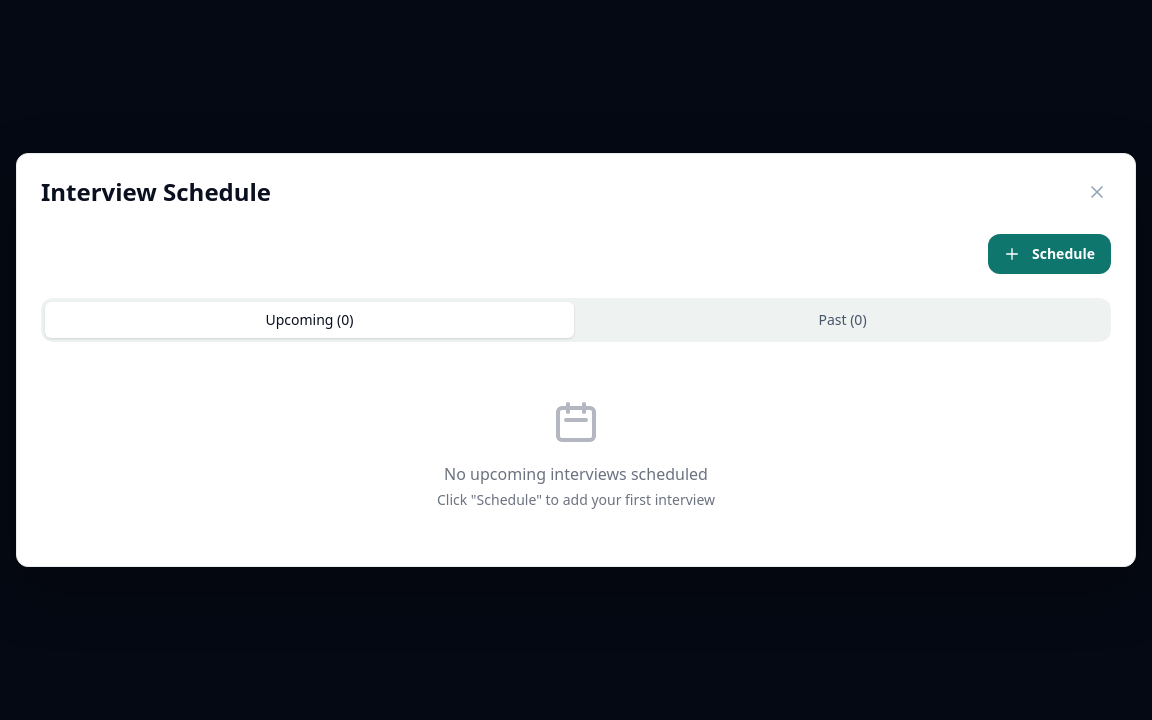
Test: InterviewScheduler › past interviews tab › shows empty state when no past interviews
What coordinates should you click on to do the following:
click the button "Past (0)"
I would click on:
 (842, 320)
Its box is 578,302 -> 1107,338.
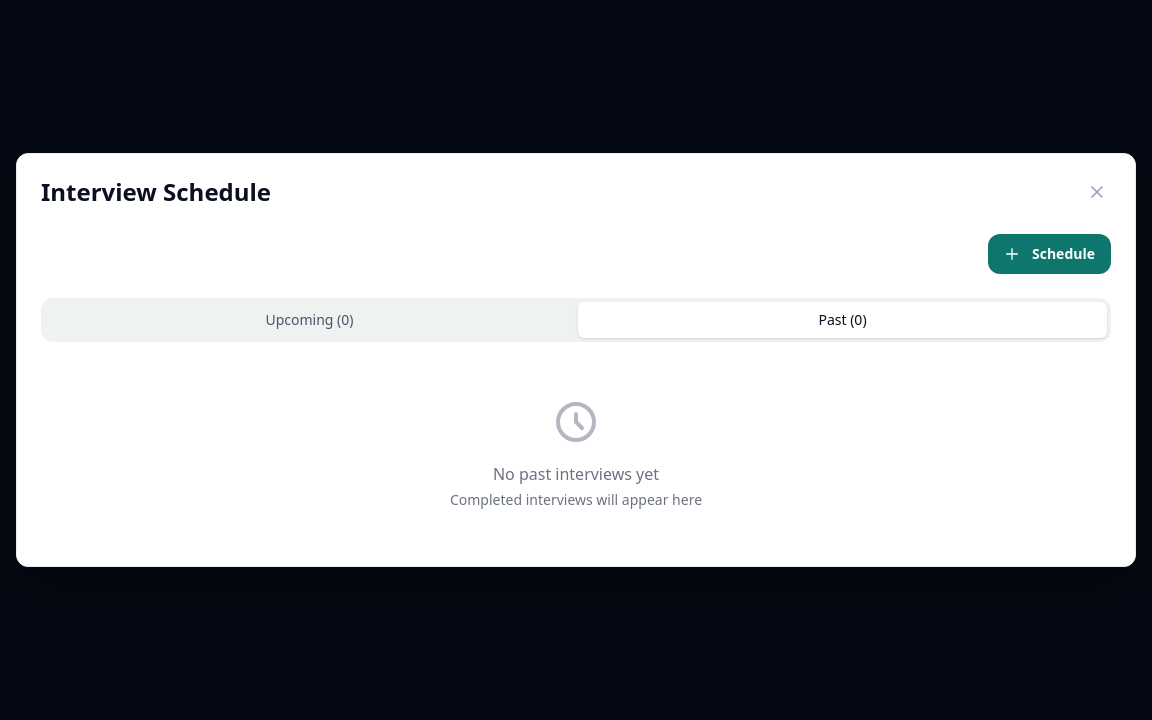
Expected: the text "No past interviews yet" is shown, 493,463 -> 659,485
